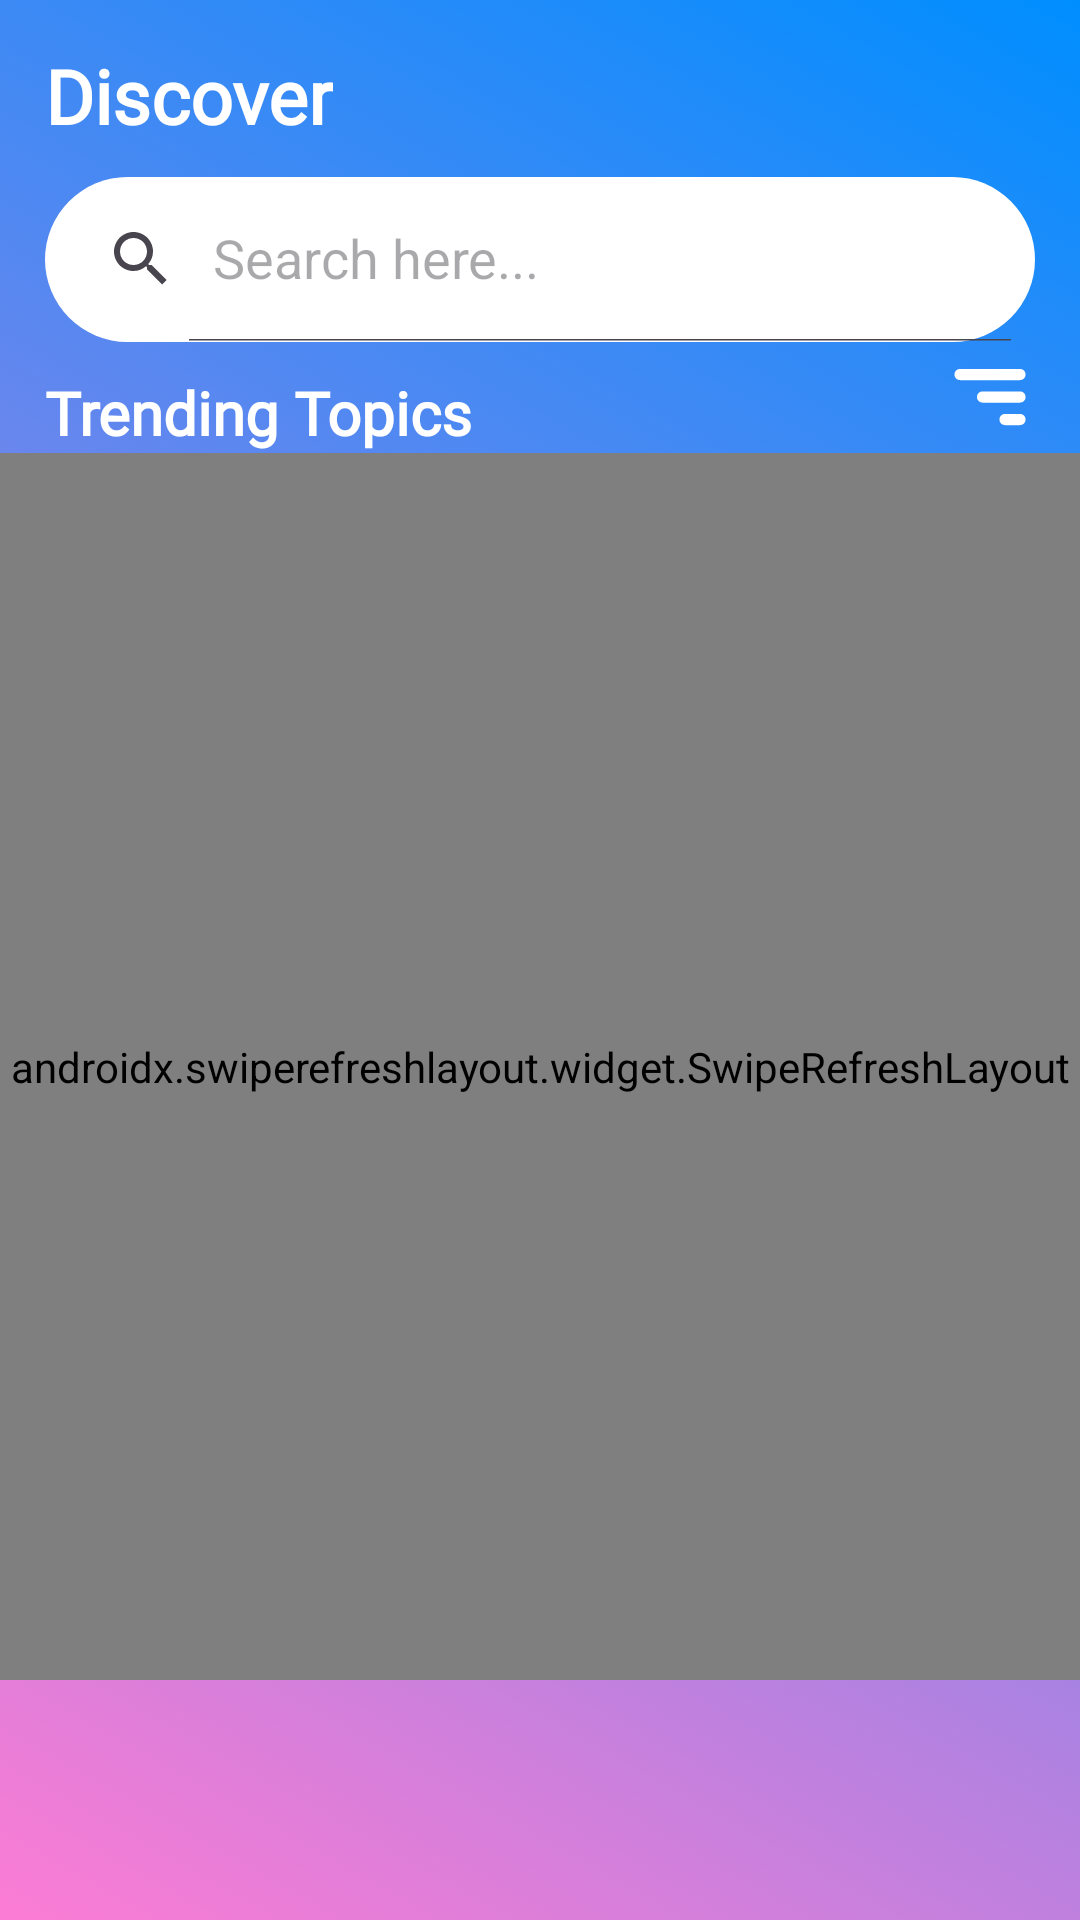

Where to tap for icons on this 1080x1920 app screen, as (x=x, y=y):
sorting right: (x=990, y=397)
